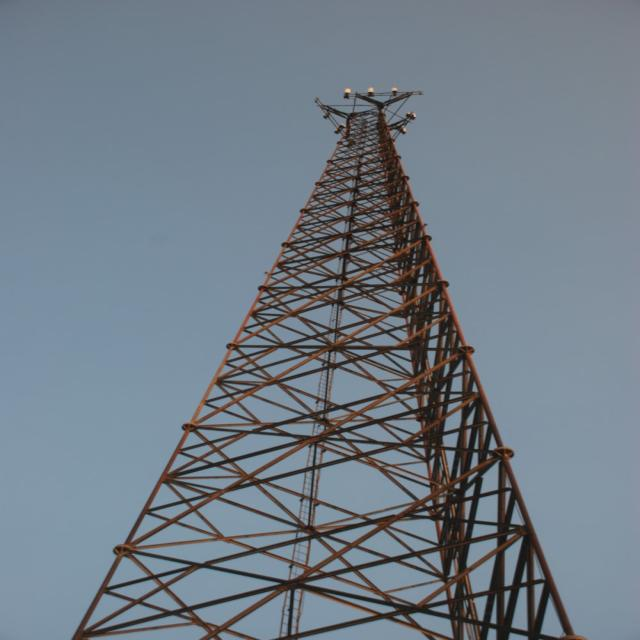transmission tower: (85, 46, 601, 640)
